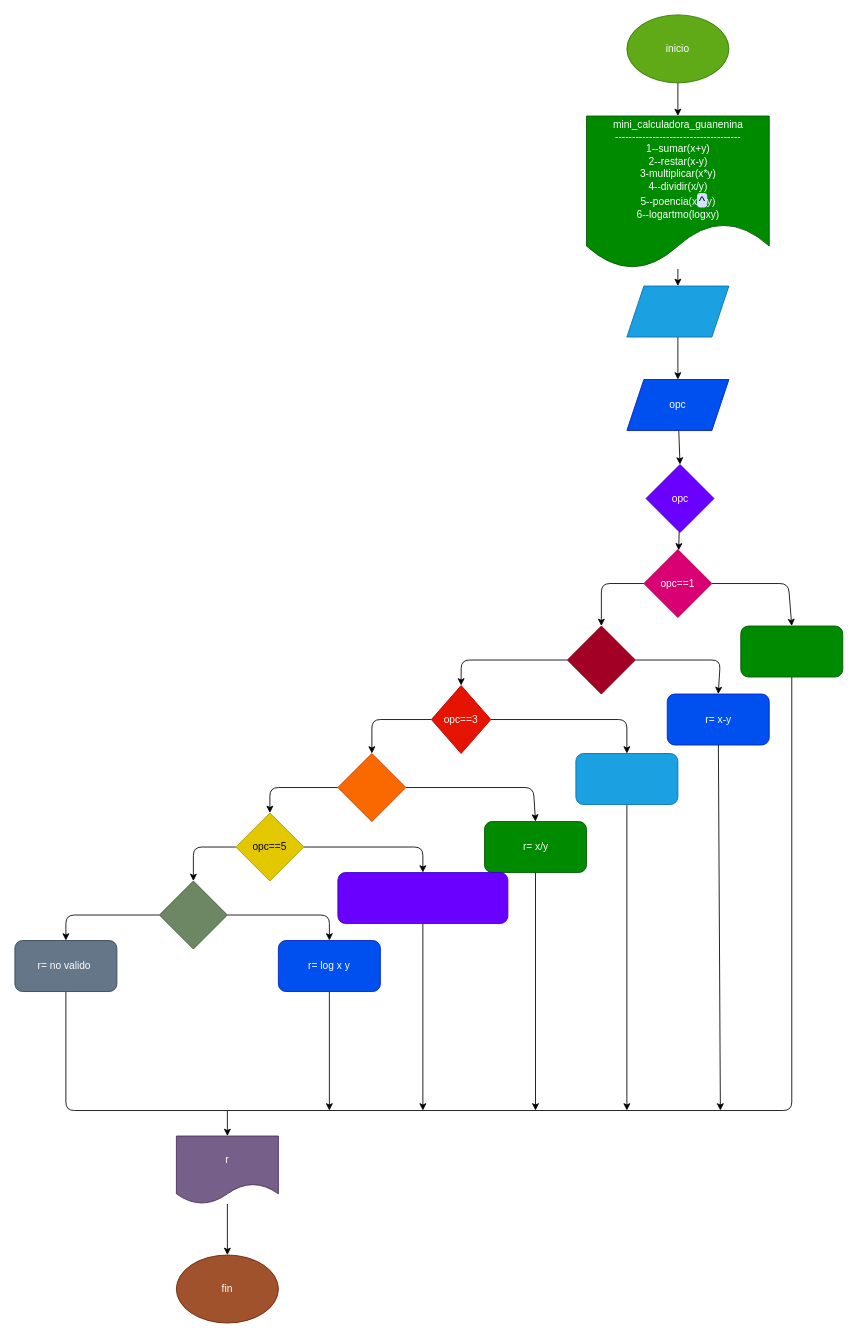
The diagram is 858 pixels wide and 1338 high, and some of its shapes have lost their labels. The centre of each missing label's shape, as x and y in pixels:
opc==2: point 601,659
opc==4: point 371,787
opc==6: point 193,914
r= x ^ y: point 422,898
r= x*y: point 626,779
r= x+y: point 791,651
x,y: point 677,311
